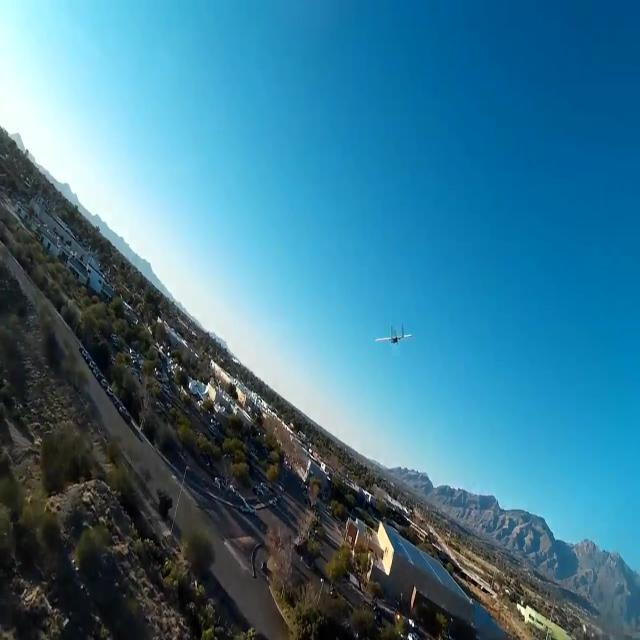iha: (368, 323, 406, 346)
